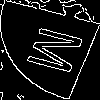M: (25, 24, 96, 79)
